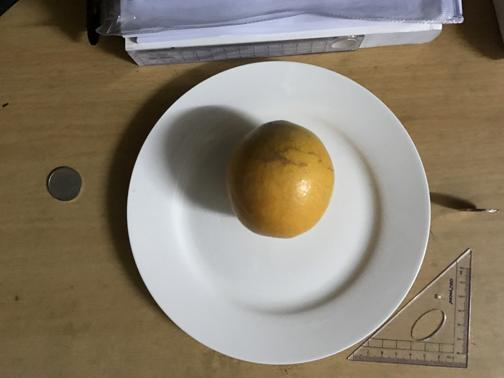coin: (45, 164, 83, 202)
orange: (232, 119, 334, 239)
